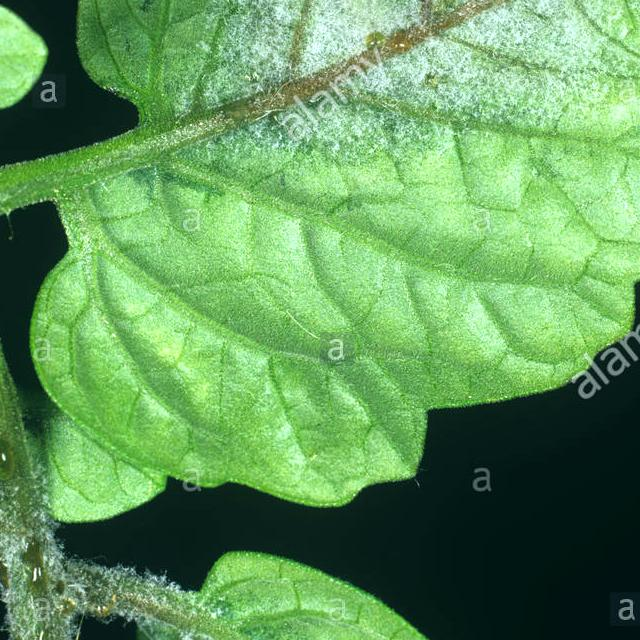Tomato leaf late blight: (0, 0, 640, 516)
